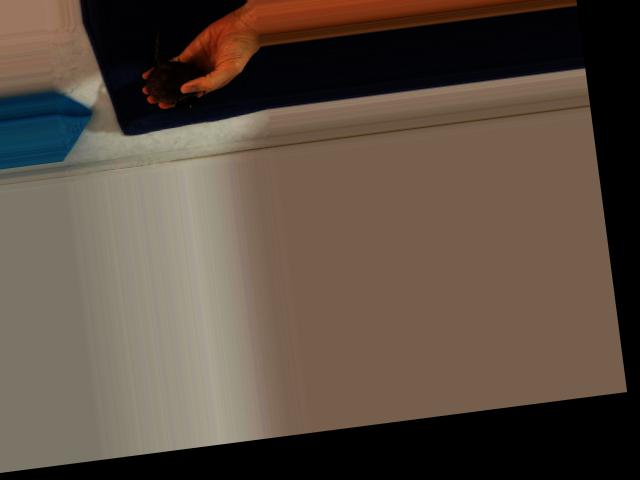beet: (139, 24, 207, 113)
